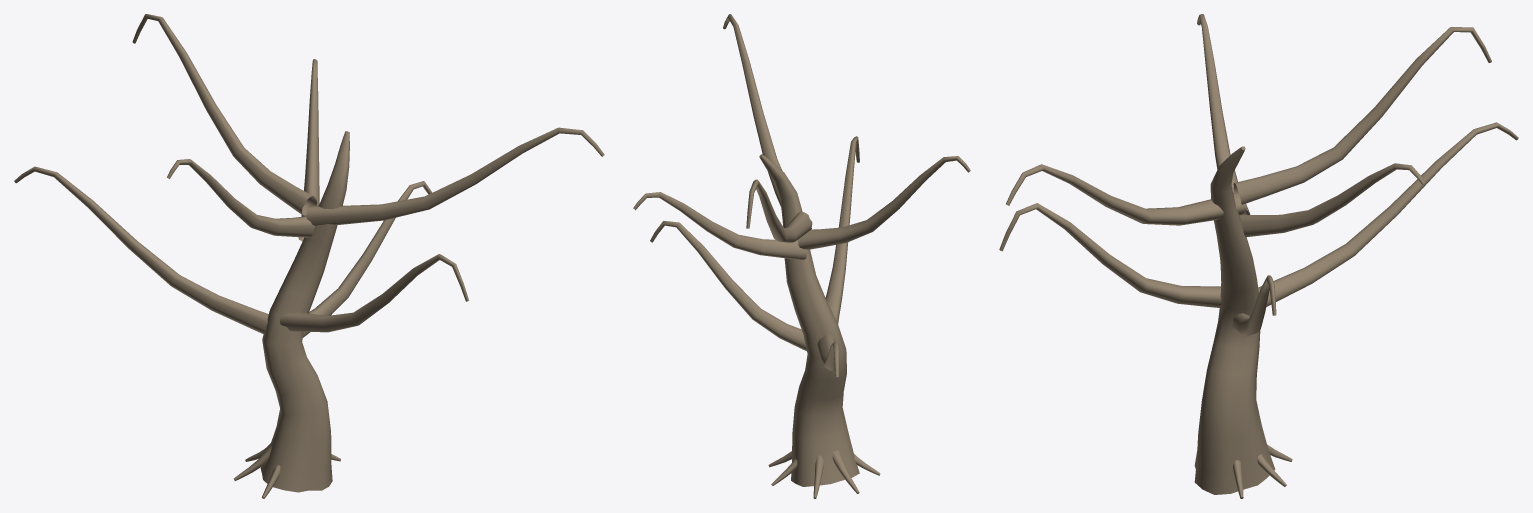
File: dead_tree_lod0.glb
3 views of the same model, side by side, from view 1: azimuth 30°, elevation 25°; view 2: azimuth 150°, elevation 25°; view 3: azimuth 270°, elevation 25° (orthographic). The views are drawn at different scales.
Visible parts, largest first — view 1: Bark; view 2: Bark; view 3: Bark.
Part boxes in pixels (x1=…): Bark: x1=14, y1=14, x2=604, y2=498; Bark: x1=633, y1=14, x2=970, y2=498; Bark: x1=999, y1=14, x2=1518, y2=498.
Bounding box in the file's own units: 7.19 × 7.71 × 8.35.
